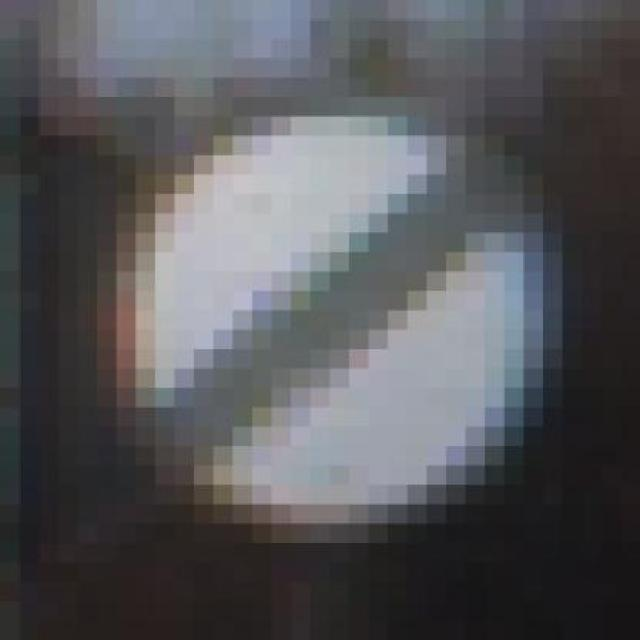End of all speed and passing limits: (97, 113, 581, 559)
